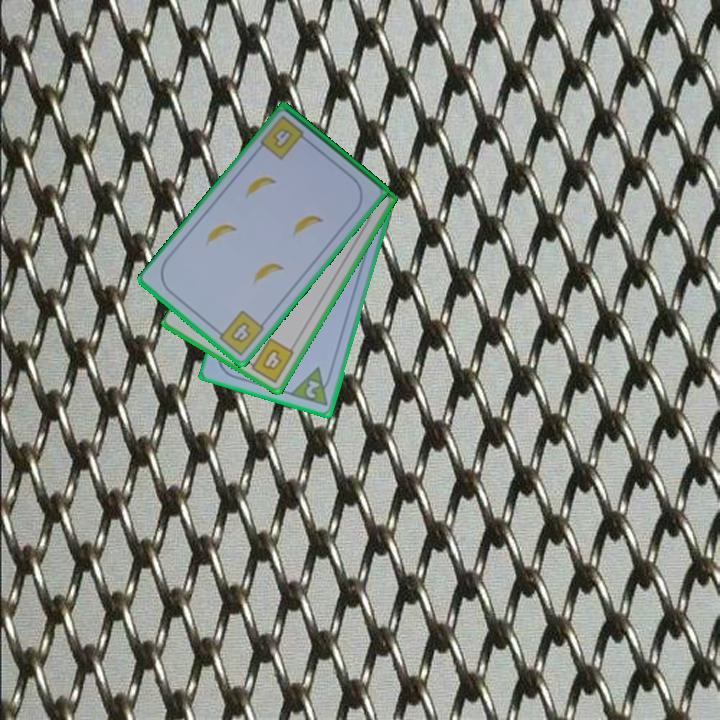2p: (287, 364, 336, 409)
4b: (211, 307, 267, 359), (256, 112, 312, 163), (243, 334, 297, 386)
